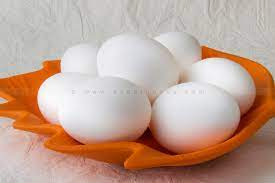eggs: (102, 32, 252, 158), (25, 59, 151, 145), (159, 83, 242, 156), (183, 46, 264, 100)
